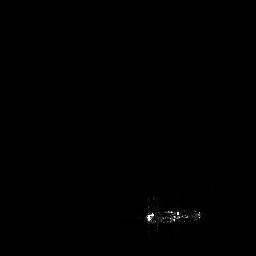ship: (147, 209, 202, 224)
